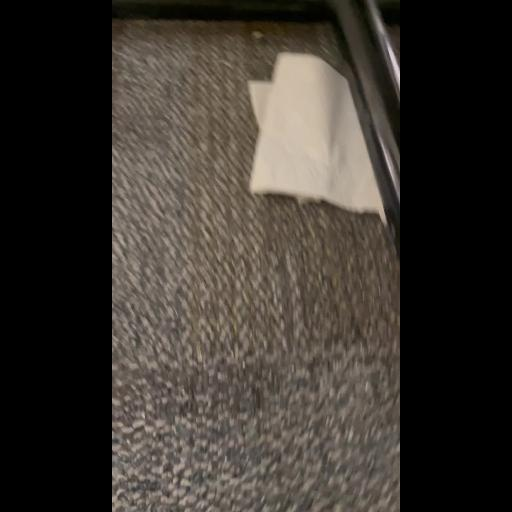napkin: (232, 40, 400, 252)
